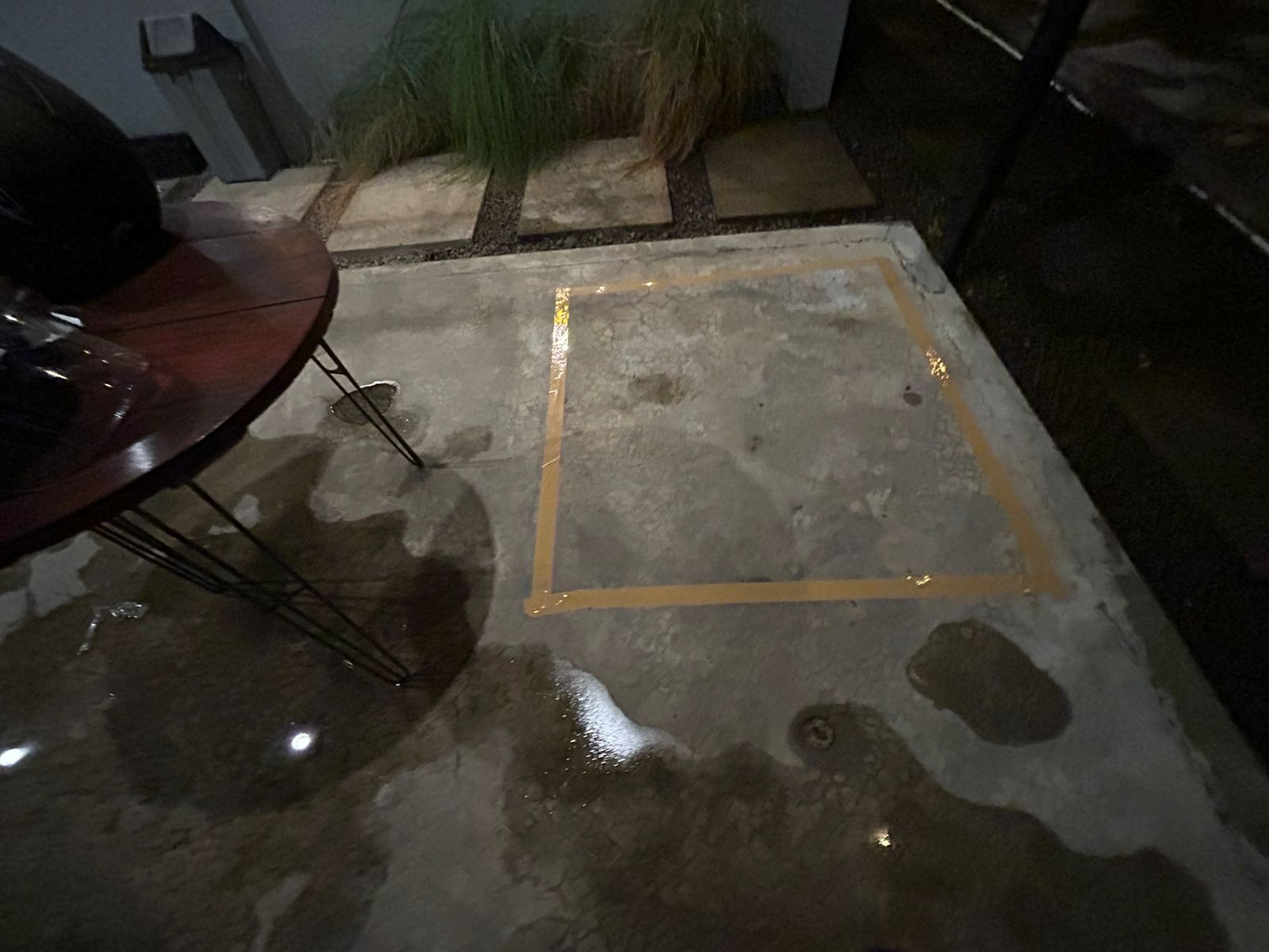floor marking: (523, 257, 1064, 616)
